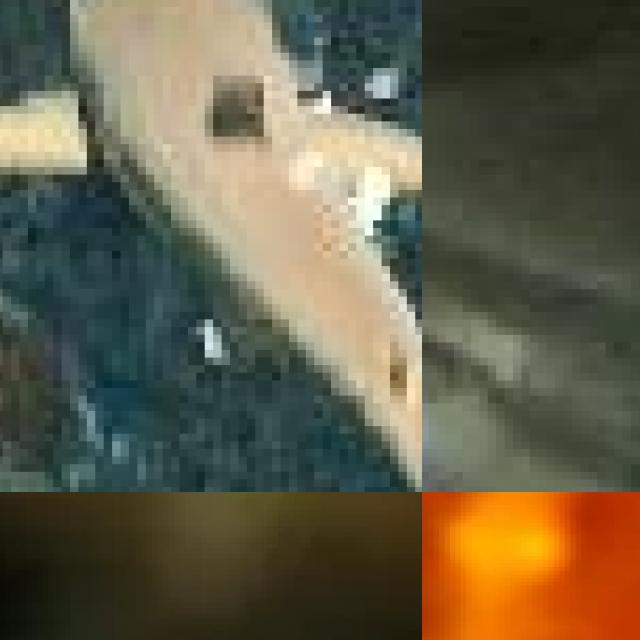fish: (0, 0, 422, 492), (0, 492, 422, 640), (422, 492, 640, 640), (422, 388, 640, 492)
